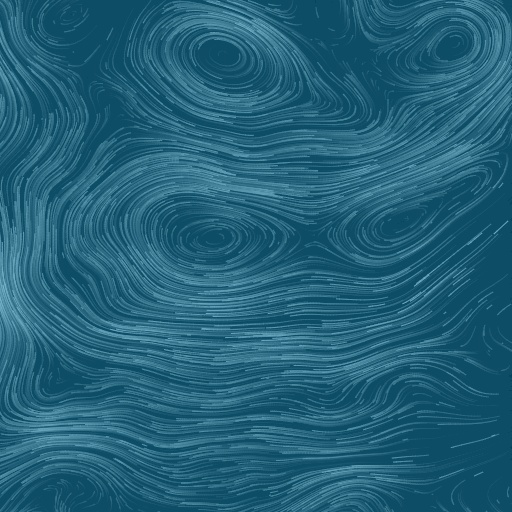eddy: (338, 160, 501, 268), (141, 5, 298, 111), (151, 203, 265, 278), (404, 10, 488, 82)
